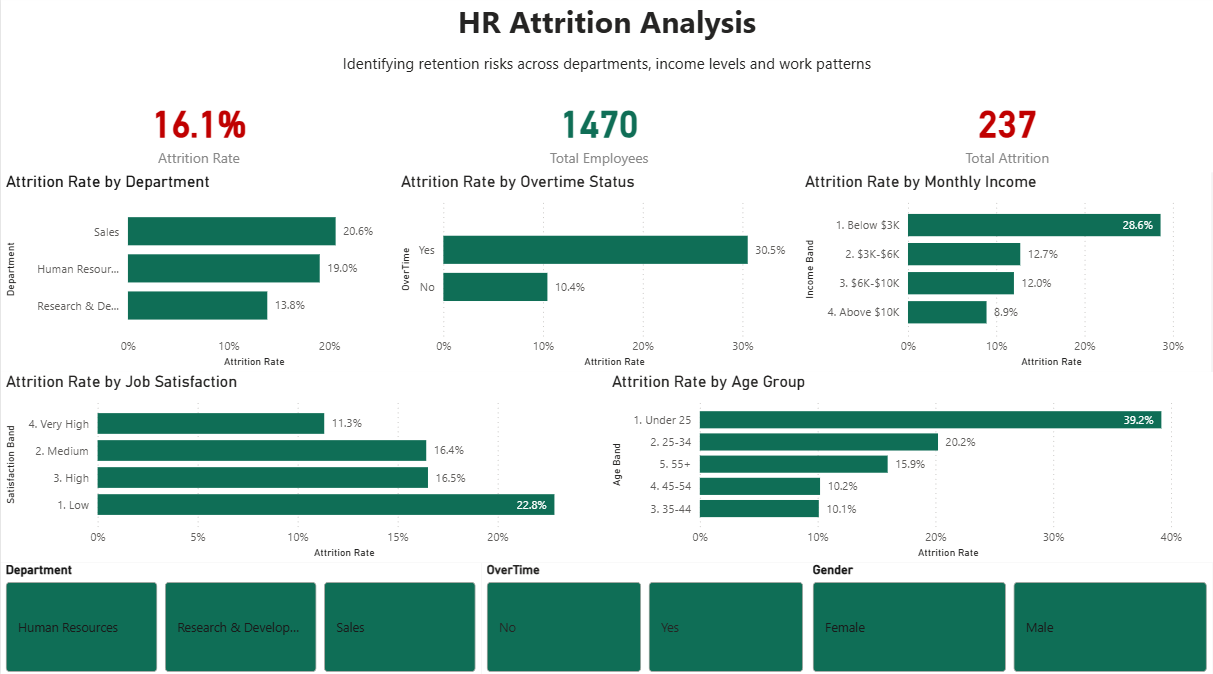

This screenshot's page, from the dashboard's own definition file:
{"tool":"powerbi","page":{"name":"Page 1","canvas":[1280,720],"ordinal":0},"visuals":[{"type":"card","fields":{"Values":["WA_Fn-UseC_-HR-Employee-Attrition.Attrition Rate"]},"box":[0,96.8,417.9,90.2],"z":0},{"type":"card","fields":{"Values":["CountNonNull(WA_Fn-UseC_-HR-Employee-Attrition.EmployeeNumber)"]},"box":[416.8,96.8,428.9,90.2],"z":1000},{"type":"card","fields":{"Values":["WA_Fn-UseC_-HR-Employee-Attrition.Total Attrition"]},"box":[844.5,96.8,435.5,90.2],"z":2000},{"type":"clusteredBarChart","fields":{"Category":["WA_Fn-UseC_-HR-Employee-Attrition.Department"],"Y":["WA_Fn-UseC_-HR-Employee-Attrition.Attrition Rate"]},"box":[0,186.9,417.9,211.1],"z":3000},{"type":"clusteredBarChart","title":"Attrition Rate by Overtime Status","fields":{"Category":["WA_Fn-UseC_-HR-Employee-Attrition.OverTime"],"Y":["WA_Fn-UseC_-HR-Employee-Attrition.Attrition Rate"]},"box":[416.8,186.9,428.9,211.1],"z":4000},{"type":"clusteredBarChart","title":"Attrition Rate by Monthly Income","fields":{"Category":["WA_Fn-UseC_-HR-Employee-Attrition.Income Band"],"Y":["WA_Fn-UseC_-HR-Employee-Attrition.Attrition Rate"]},"box":[843.4,186.9,434.4,211.1],"z":5000},{"type":"clusteredBarChart","title":"Attrition Rate by Job Satisfaction","fields":{"Y":["WA_Fn-UseC_-HR-Employee-Attrition.Attrition Rate"],"Category":["WA_Fn-UseC_-HR-Employee-Attrition.Satisfaction Band"]},"box":[0,398.1,640,201.2],"z":6000},{"type":"clusteredBarChart","title":"Attrition Rate by Age Group","fields":{"Category":["WA_Fn-UseC_-HR-Employee-Attrition.Age Band"],"Y":["WA_Fn-UseC_-HR-Employee-Attrition.Attrition Rate"]},"box":[640,398.1,640,201.2],"z":7000},{"type":"advancedSlicerVisual","fields":{"Values":["WA_Fn-UseC_-HR-Employee-Attrition.Department"]},"box":[0,599.3,507.4,120.7],"z":8000},{"type":"advancedSlicerVisual","fields":{"Values":["WA_Fn-UseC_-HR-Employee-Attrition.OverTime"]},"box":[507.4,599.3,345,120.7],"z":9000},{"type":"advancedSlicerVisual","fields":{"Values":["WA_Fn-UseC_-HR-Employee-Attrition.Gender"]},"box":[852.5,599.3,427.3,120.7],"z":10000},{"type":"textbox","box":[0,0,1279.5,56],"z":11000},{"type":"textbox","box":[0,56,1279.5,42.2],"z":12000}]}

Visuals, with their boxes in screenshot pixels (x1, y1, x2, y2), scaled from the page's 1280x720 canvas onto the 1213x674 screenshot:
card - WA_Fn-UseC_-HR-Employee-Attrition.Attrition Rate: (0, 91, 396, 175)
card - CountNonNull(WA_Fn-UseC_-HR-Employee-Attrition.EmployeeNumber): (395, 91, 801, 175)
card - WA_Fn-UseC_-HR-Employee-Attrition.Total Attrition: (800, 91, 1212, 175)
clusteredBarChart - WA_Fn-UseC_-HR-Employee-Attrition.Department x WA_Fn-UseC_-HR-Employee-Attrition.Attrition Rate: (0, 175, 396, 373)
"Attrition Rate by Overtime Status" clusteredBarChart: (395, 175, 801, 373)
"Attrition Rate by Monthly Income" clusteredBarChart: (799, 175, 1211, 373)
"Attrition Rate by Job Satisfaction" clusteredBarChart: (0, 373, 606, 561)
"Attrition Rate by Age Group" clusteredBarChart: (606, 373, 1212, 561)
advancedSlicerVisual - WA_Fn-UseC_-HR-Employee-Attrition.Department: (0, 561, 481, 673)
advancedSlicerVisual - WA_Fn-UseC_-HR-Employee-Attrition.OverTime: (481, 561, 808, 673)
advancedSlicerVisual - WA_Fn-UseC_-HR-Employee-Attrition.Gender: (808, 561, 1212, 673)
textbox: (0, 0, 1212, 52)
textbox: (0, 52, 1212, 92)
